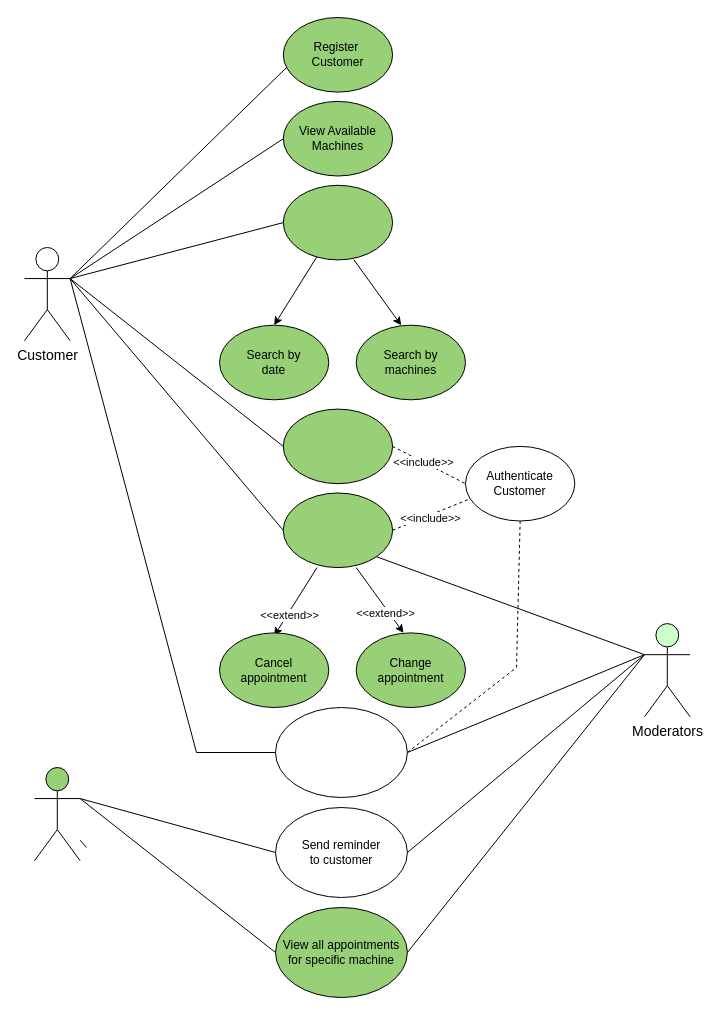
Image size: 720x1015. Some labels were removed from this diagram. Here are the shapes that lost their labels. From the top down, the centre of each, then its label:
At (337,222): "Search for available appointment".
At (337,446): "Book an appointment".
At (337,530): "Manage appointments".
At (340,752): "View customer records and information".
At (57,813): "Admin".
